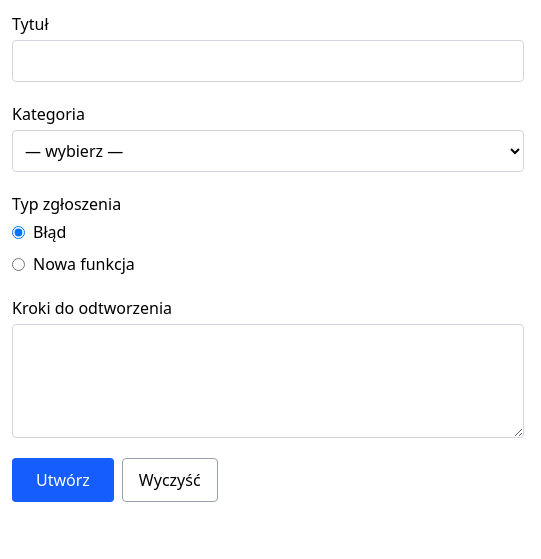
TicketForm — Controller › validates the Controller-managed field
The image size is (541, 559).
Type "Jakiś tytuł" into the field labelled "Tytuł" at coordinates (268, 61), box [12,40,524,82]
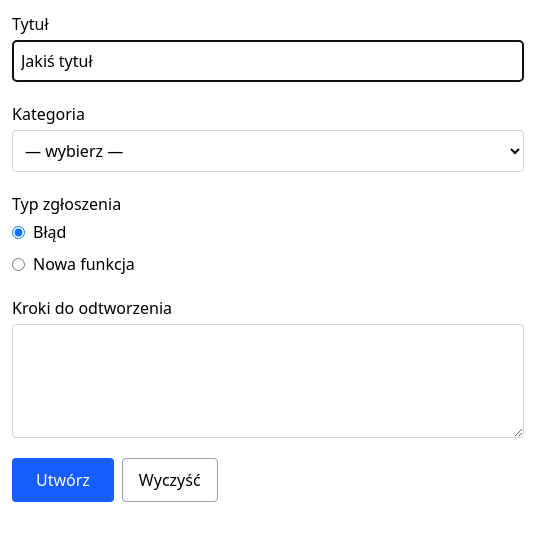
Type "Wystarczająco długi opis" into the text box labelled "Kroki do odtworzenia" at coordinates (268, 381), box [12,324,524,438]
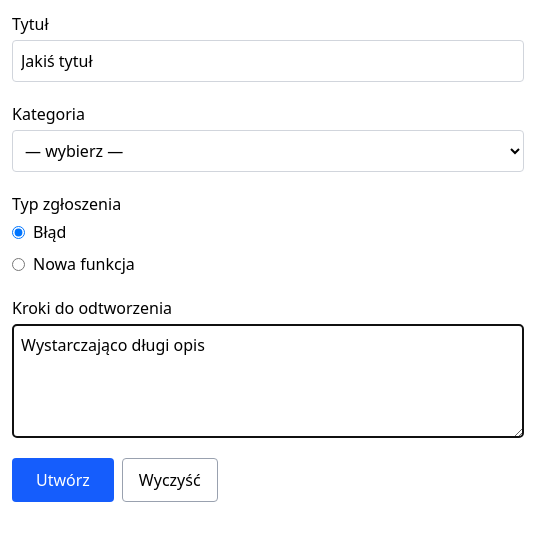
Click the button "Utwórz" at coordinates (63, 480), box [12,458,114,502]
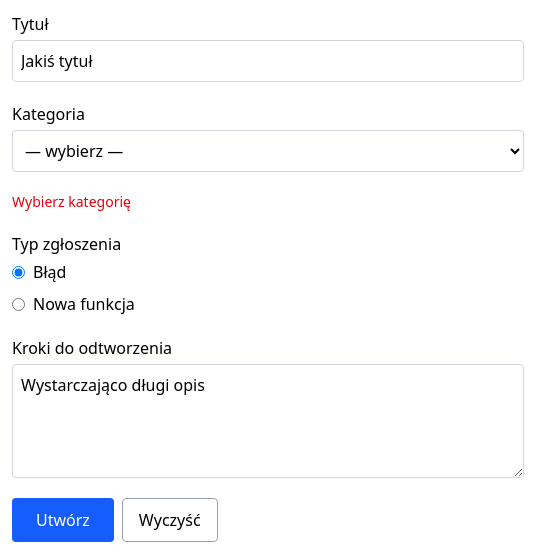
Expected: the text "Wybierz kategorię" is shown, [12,192,131,211]
